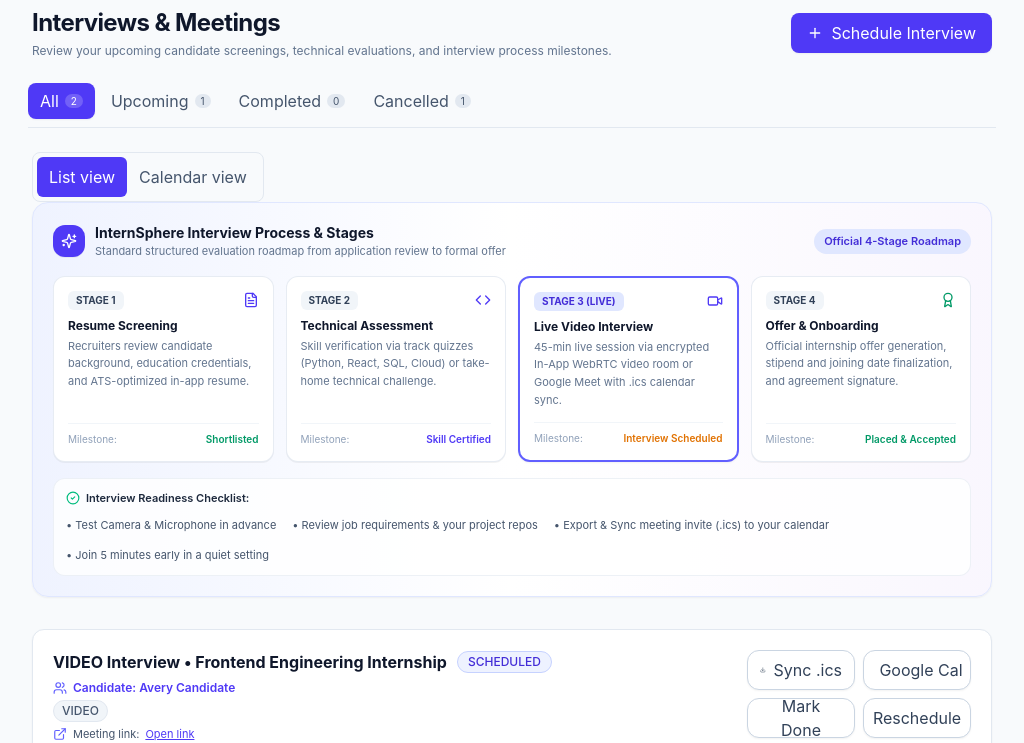
InterviewsPage status tabs and pagination › shows cancellation reasons and opens a future-only reschedule for the company
This screenshot has width=1024, height=743.
Check: the tab "Upcoming 1" is shown, box [99,83,223,119]
Click the tab "Cancelled 1".
click(422, 101)  # box [361,83,483,119]
(page scrolled)
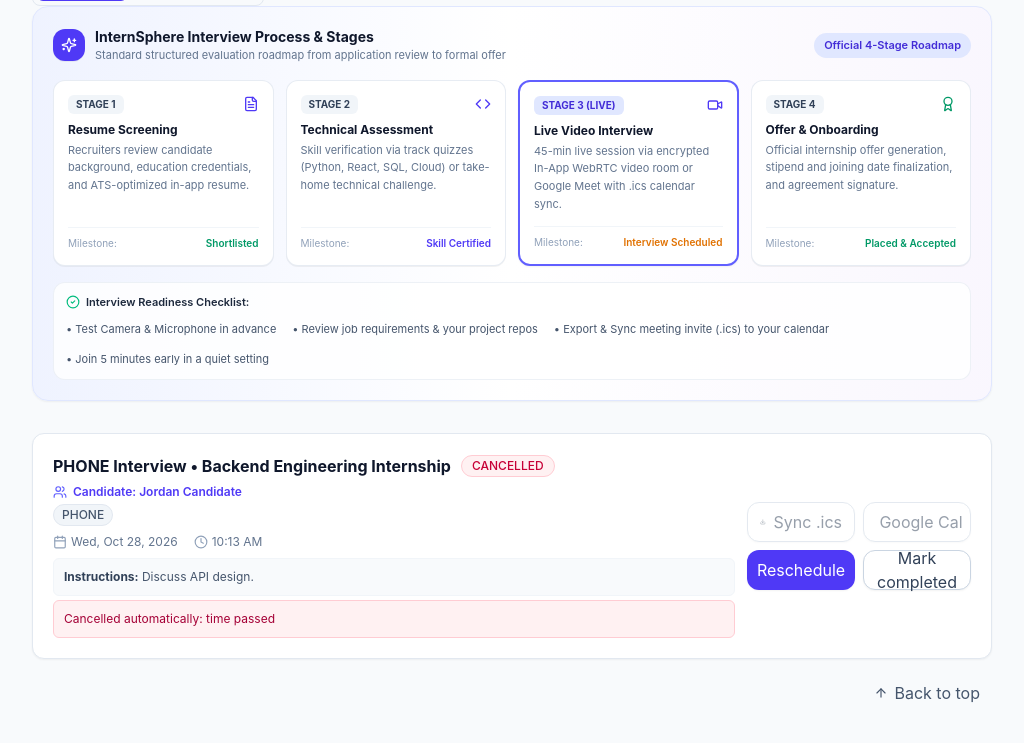
Check: the text "Cancelled automatically: time passed" is shown, box [53,600,735,638]
Click the button with aria-label "Reschedule Backend Engineering Internship interview".
click(801, 570)  # box [747,550,855,590]
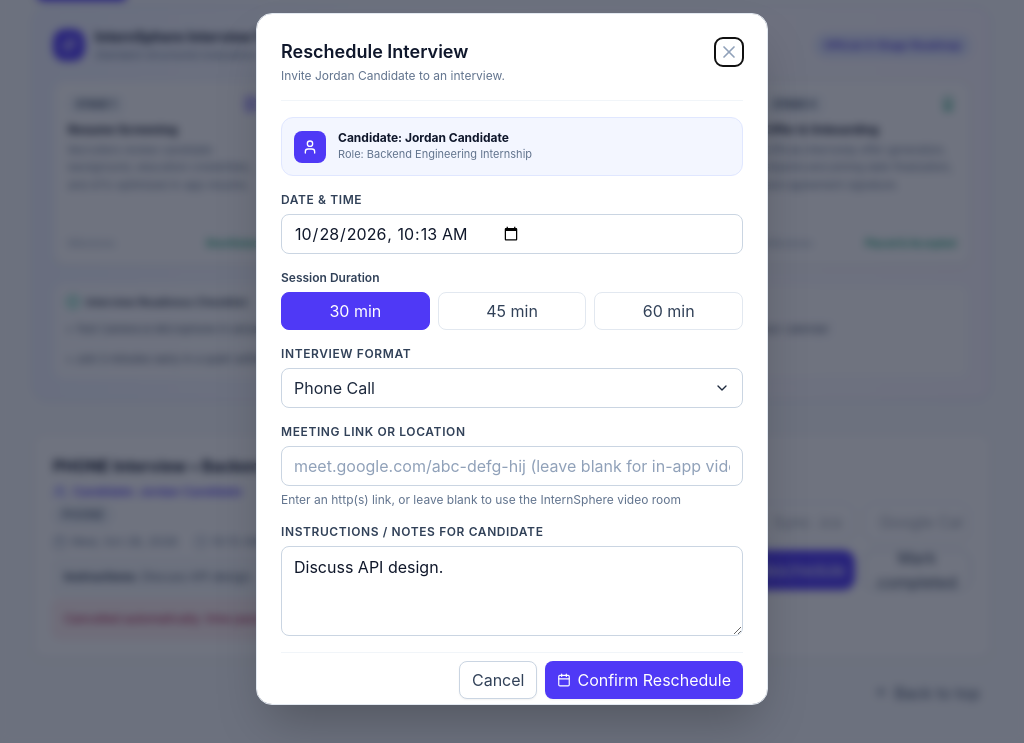
Check: the heading "Reschedule Interview" is shown, box [281,41,468,62]
Check: the dropdown named "Interview Format" reads "Phone Call", box [281,368,743,408]
Check: the field labelled "Meeting Link or Location" is empty, box [281,446,743,486]
